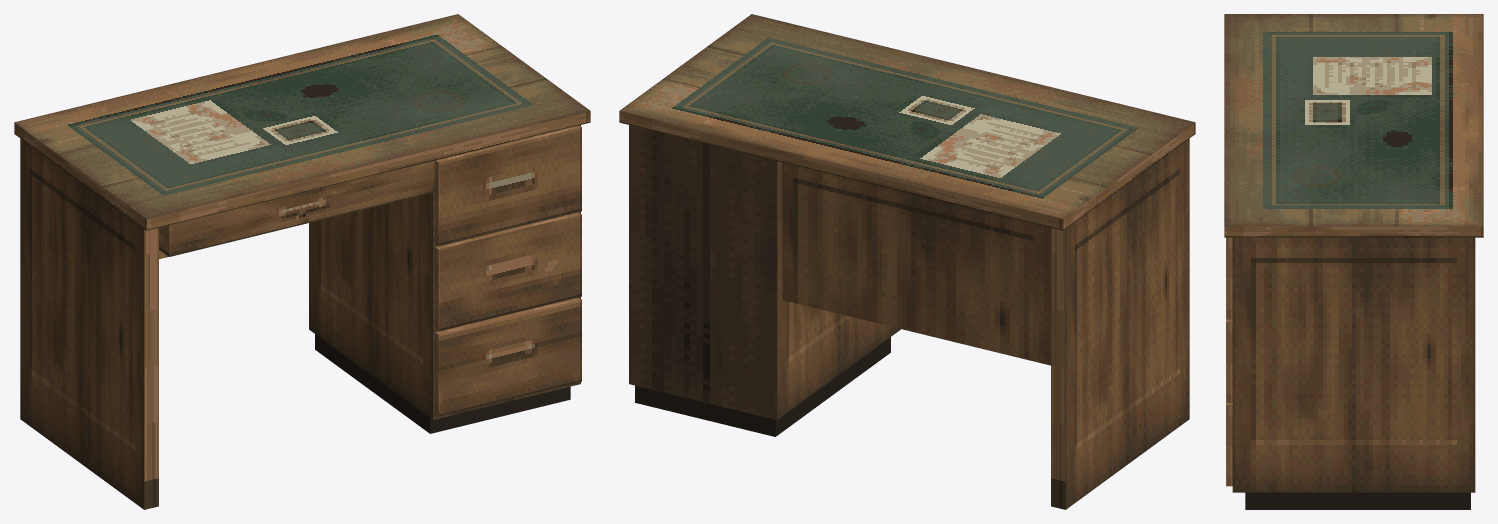
The model's file is desk_wooden.glb.
The picture shows the model from 3 angles, left to right: view 1: azimuth 30°, elevation 25°; view 2: azimuth 150°, elevation 25°; view 3: azimuth 270°, elevation 25°; orthographic projection. The views are drawn at different scales.
Visible parts, largest first — view 1: desk_wooden; view 2: desk_wooden; view 3: desk_wooden.
Boxes of the visible parts, left/top/right/bottom form: desk_wooden: left=14, top=14, right=590, bottom=509; desk_wooden: left=619, top=14, right=1195, bottom=509; desk_wooden: left=1224, top=14, right=1483, bottom=509.
Size of the model in its own units: 1.2 by 0.76 by 0.62.
Materials: 1 (1 with a texture image).
